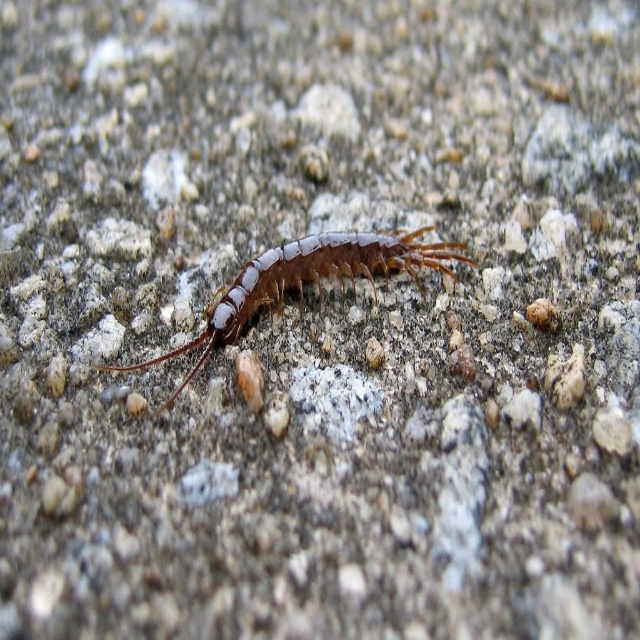Centipede: (90, 222, 472, 421)
